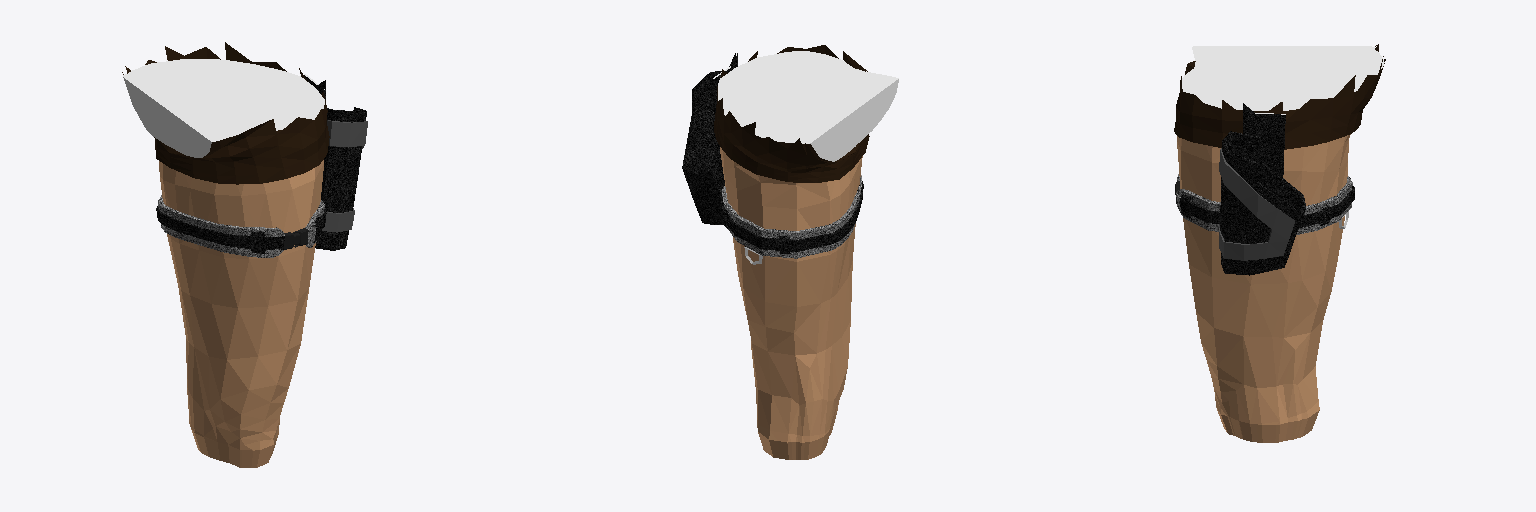
The picture shows the model from 3 angles: view 1: azimuth 30°, elevation 25°; view 2: azimuth 150°, elevation 25°; view 3: azimuth 270°, elevation 25°; orthographic projection.
Parts seen in each view (by area): view 1: Mesh2 Model, Mesh1 Model, Mesh6 Model; view 2: Mesh2 Model, Mesh1 Model, Mesh6 Model; view 3: Mesh2 Model, Mesh1 Model, Mesh6 Model, Mesh7 Model.
Part boxes in pixels (bbox=[...]): Mesh2 Model: bbox=[156, 160, 326, 467]; Mesh1 Model: bbox=[122, 42, 329, 184]; Mesh6 Model: bbox=[315, 107, 367, 250]; Mesh2 Model: bbox=[720, 147, 863, 459]; Mesh1 Model: bbox=[714, 45, 898, 182]; Mesh6 Model: bbox=[682, 71, 724, 224]; Mesh2 Model: bbox=[1175, 134, 1354, 442]; Mesh1 Model: bbox=[1174, 44, 1385, 149]; Mesh6 Model: bbox=[1219, 131, 1305, 275]; Mesh7 Model: bbox=[1243, 103, 1285, 178].
Bounding box in the file's own units: 8.39 × 16.76 × 8.73.
8 materials, 2 textured.